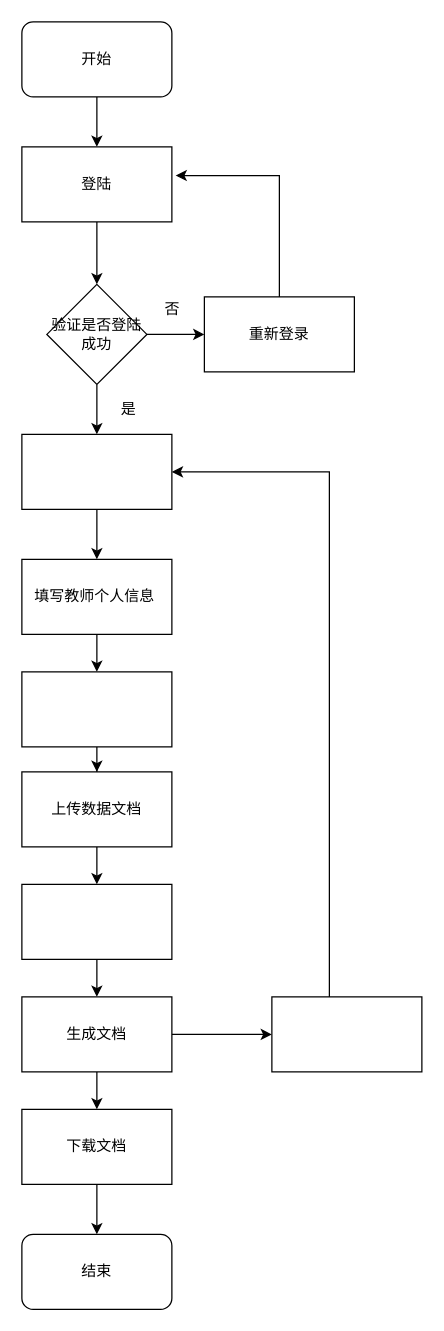
Some shapes in this 444 by 1331 pixel diagram are drawn without their labels. The shapes that lost their labels are listed below. From the top down, each one's centre as x and y in pixels, then its label:
At (96,471): "系统主页面".
At (96,709): "填写课程信息".
At (96,921): "选择生成的模板".
At (346,1034): "重新填写信息".
